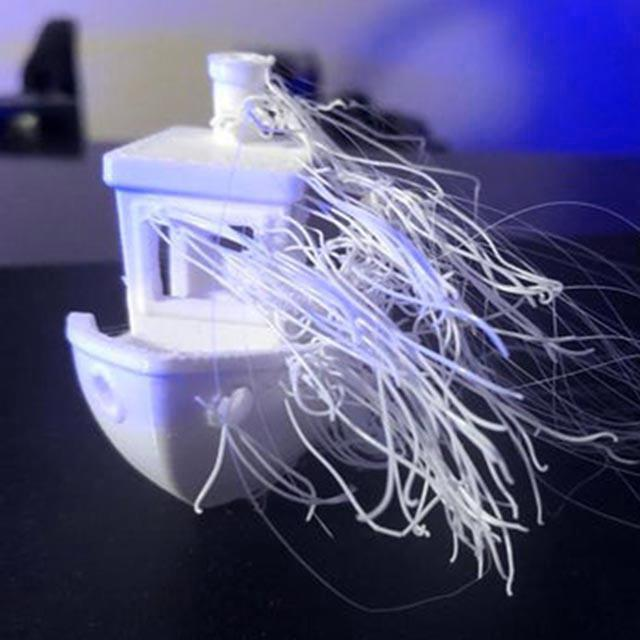spaghetti: (147, 68, 640, 614)
